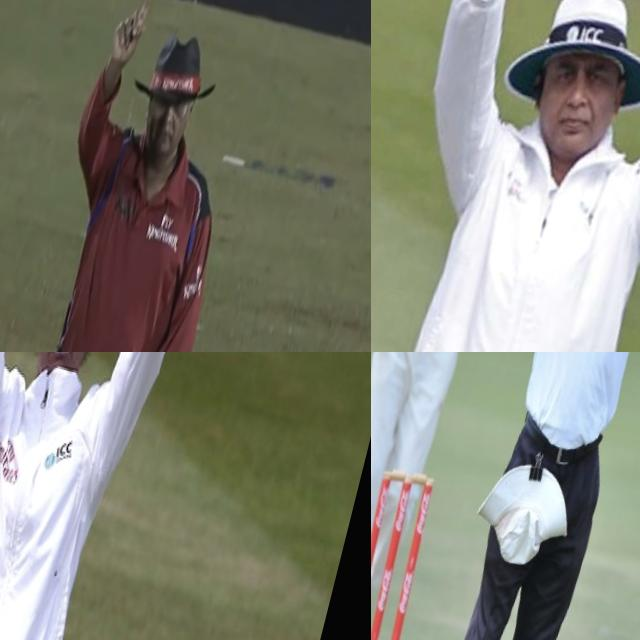Out: (5, 0, 285, 352)
Six: (371, 0, 640, 352), (0, 352, 243, 640)
Wide: (371, 352, 640, 548)
